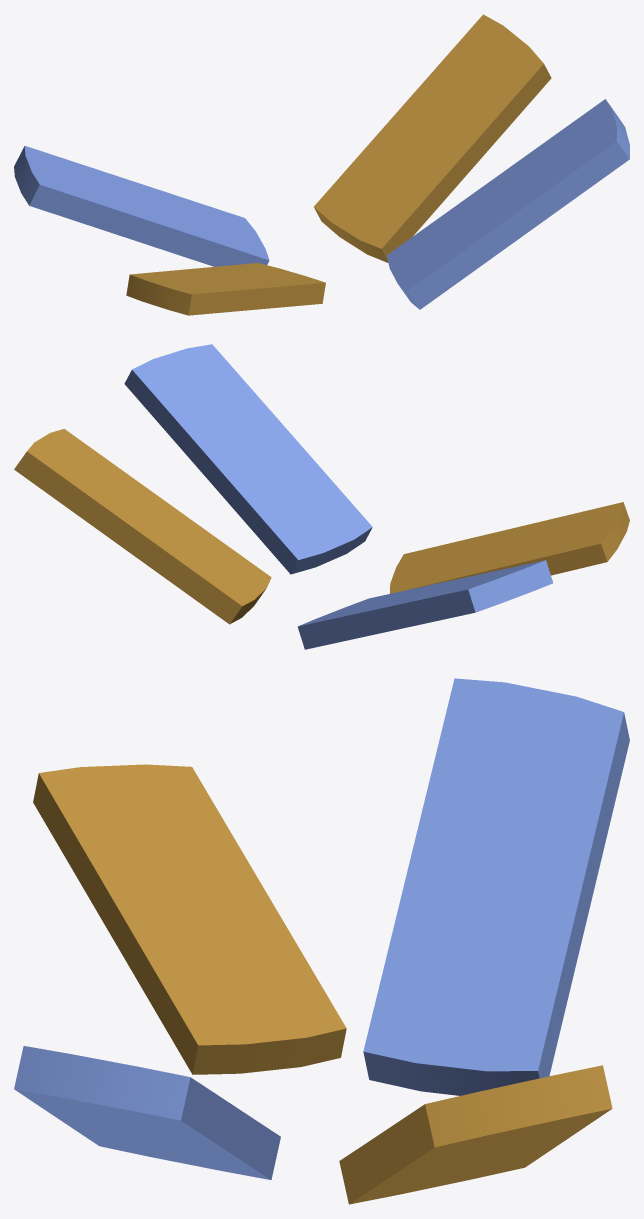
Rendered from Bridge_Broken.fbx.
3 renders of one model, top to bottom at view 1: azimuth 30°, elevation 25°; view 2: azimuth 150°, elevation 25°; view 3: azimuth 270°, elevation 25°, orthographic. The views are drawn at different scales.
Visible parts, largest first — view 1: Cube_042; view 2: Cube_042; view 3: Cube_042.
Part boxes in pixels (x1,y1,x2,y2): Cube_042: [14, 14, 629, 315]; Cube_042: [14, 344, 629, 649]; Cube_042: [14, 678, 629, 1204].
Size of the model in its own units: 469 by 137 by 269.
